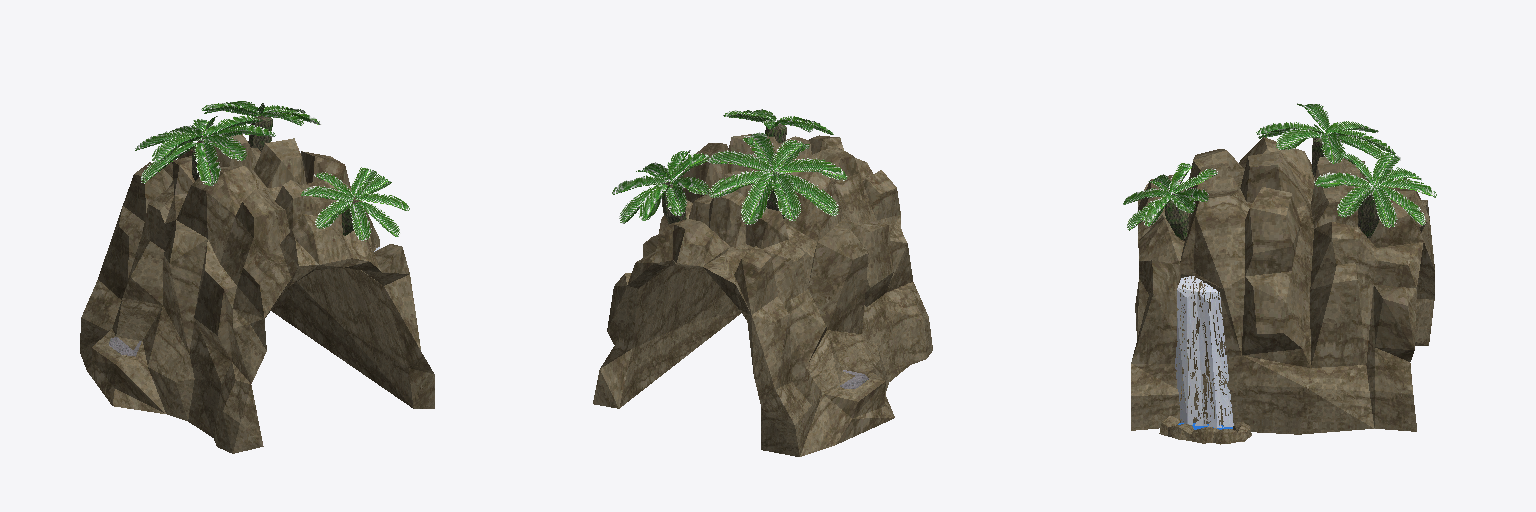
3 views of the same model, side by side, from view 1: azimuth 30°, elevation 25°; view 2: azimuth 150°, elevation 25°; view 3: azimuth 270°, elevation 25° (orthographic).
Parts seen in each view (by area): view 1: Large_Shelter_Cave, TreeFronds, LargeShelt; view 2: Large_Shelter_Cave, TreeFronds, LargeShelt; view 3: Large_Shelter_Cave, TreeFronds, Editable_Mesh, LargeShelt.
Boxes of the visible parts, x1=… form: Large_Shelter_Cave: x1=80, y1=131, x2=434, y2=453; TreeFronds: x1=135, y1=101, x2=409, y2=241; LargeShelt: x1=109, y1=115, x2=360, y2=356; Large_Shelter_Cave: x1=593, y1=134, x2=932, y2=456; TreeFronds: x1=612, y1=109, x2=847, y2=224; LargeShelt: x1=662, y1=122, x2=868, y2=388; Large_Shelter_Cave: x1=1131, y1=137, x2=1434, y2=444; TreeFronds: x1=1123, y1=103, x2=1436, y2=230; Editable_Mesh: x1=1175, y1=276, x2=1233, y2=429; LargeShelt: x1=1165, y1=135, x2=1379, y2=240.
Size of the model in its own units: 10.54 by 9.27 by 10.85.
Materials: 5 (4 with a texture image).